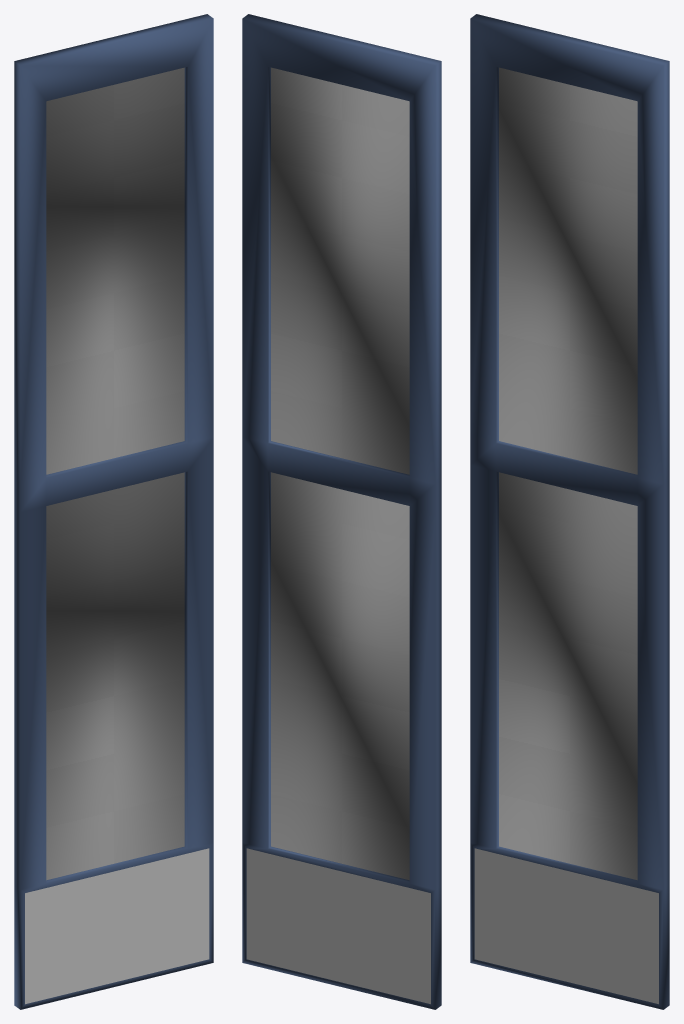
The model's file is SW_corridor__R_lobby_R_Aula_Ovi_025.FBX.
3 renders of one model, left to right at view 1: azimuth 30°, elevation 25°; view 2: azimuth 150°, elevation 25°; view 3: azimuth 330°, elevation 25°, orthographic.
Parts seen in each view (by area): view 1: SW_corridor__R_lobby_R_Aula_Ovi_025; view 2: SW_corridor__R_lobby_R_Aula_Ovi_025; view 3: SW_corridor__R_lobby_R_Aula_Ovi_025.
Part boxes in pixels (bbox=[...]): SW_corridor__R_lobby_R_Aula_Ovi_025: bbox=[14, 14, 213, 1009]; SW_corridor__R_lobby_R_Aula_Ovi_025: bbox=[242, 14, 441, 1009]; SW_corridor__R_lobby_R_Aula_Ovi_025: bbox=[470, 14, 669, 1009].
Size of the model in its own units: 43.93 by 2.51 by 205.
